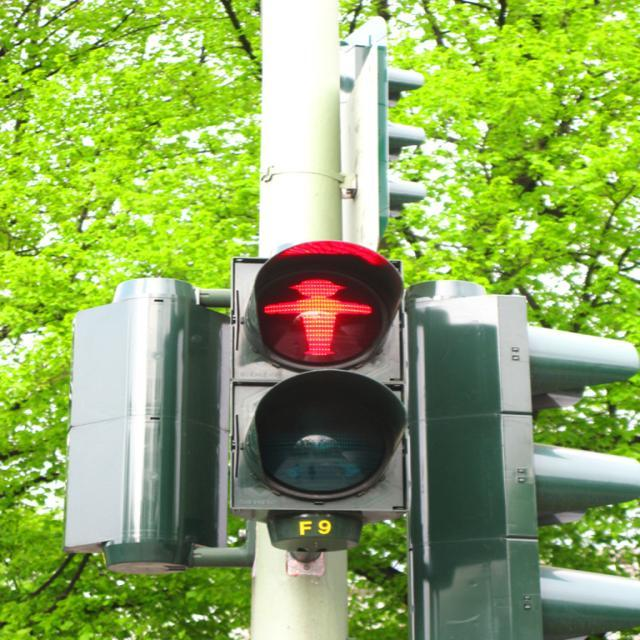off traffic light: (408, 280, 640, 640)
traffic light: (228, 239, 410, 514)
